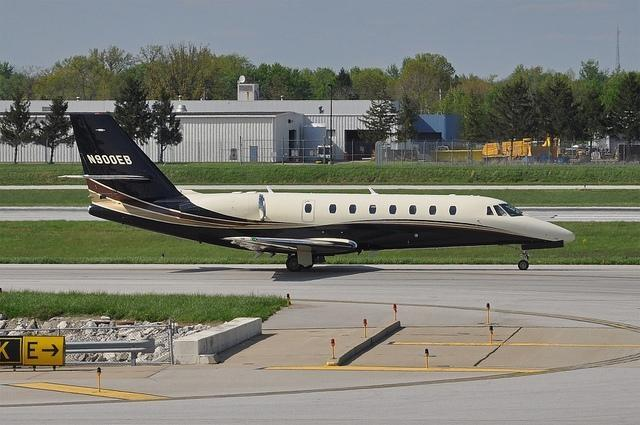truck: (318, 144, 330, 156)
